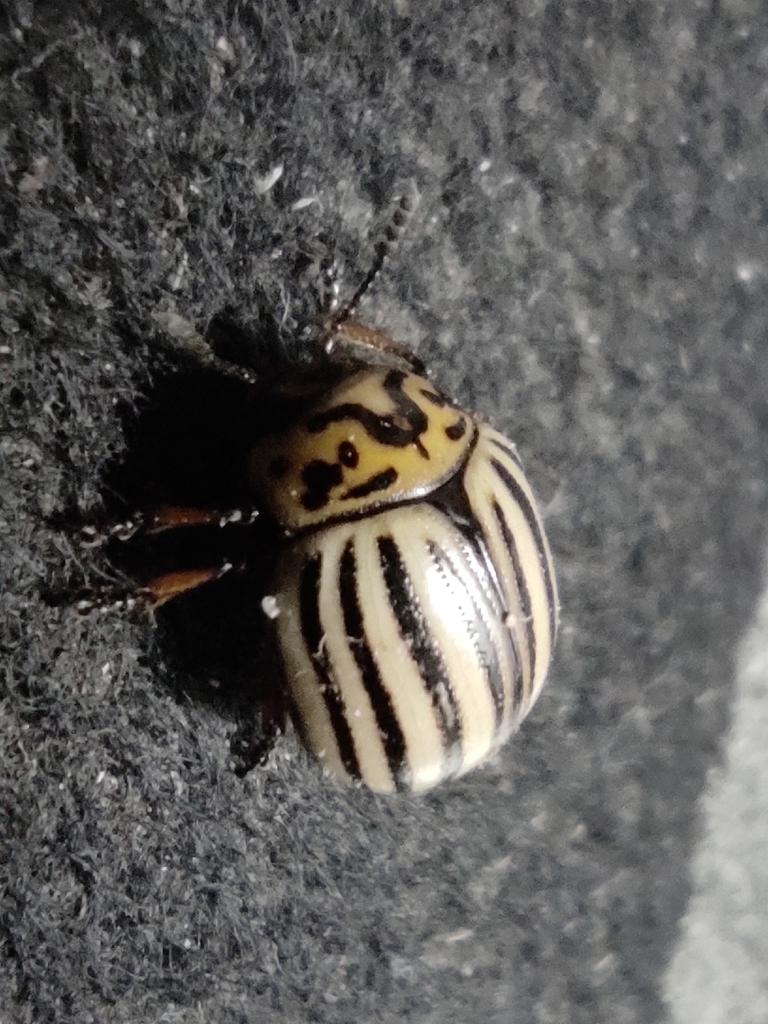potato_beetle: (0, 119, 672, 899)
